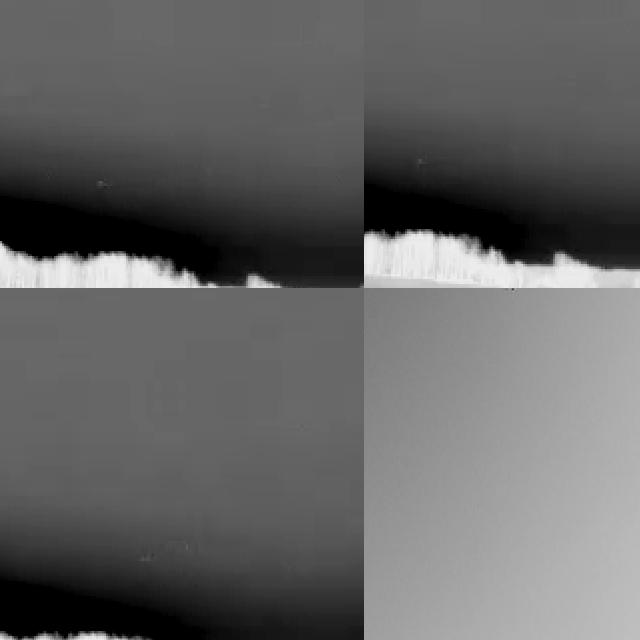0: (87, 169, 117, 201), (406, 147, 436, 179), (127, 548, 157, 578)
drone: (503, 288, 521, 298)
